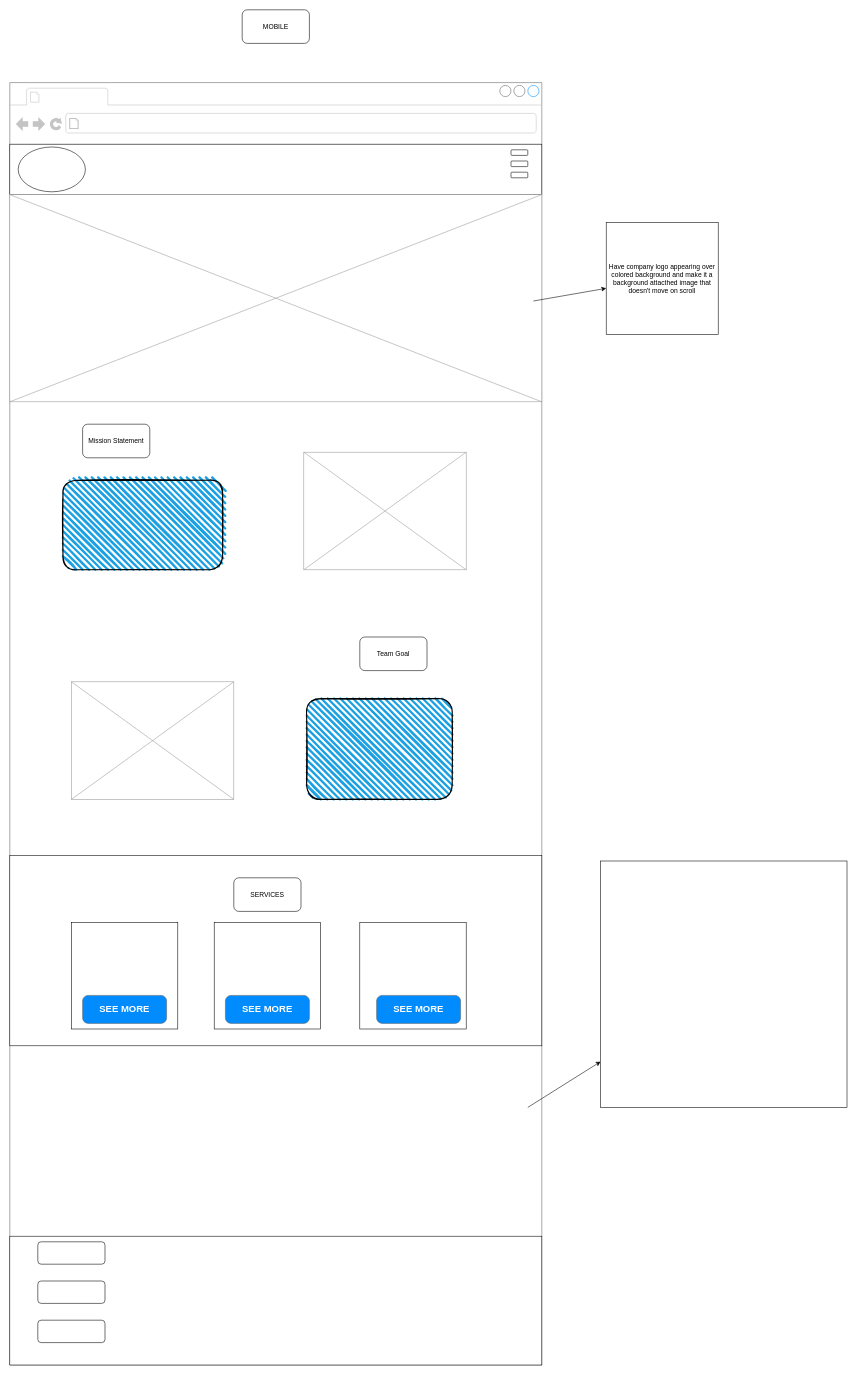
Some shapes in this 857 by 1375 pixel diagram are drawn without their labels. The box of each missing label's shape, as (x1, y1, x2, y2) in pixels:
https://www.draw.io: (82, 116, 223, 131)
LOGO: (18, 146, 85, 192)
Page 1: (43, 89, 105, 104)
